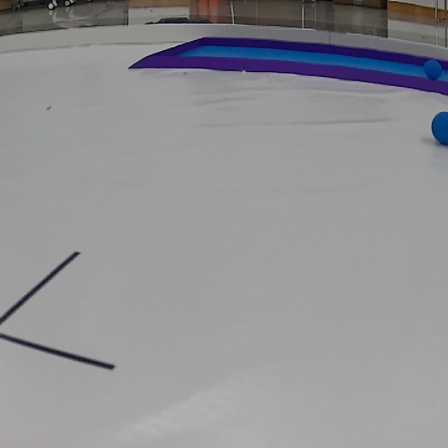blue: (427, 109, 448, 152), (422, 59, 445, 83)
blue_aim: (125, 31, 448, 94)
